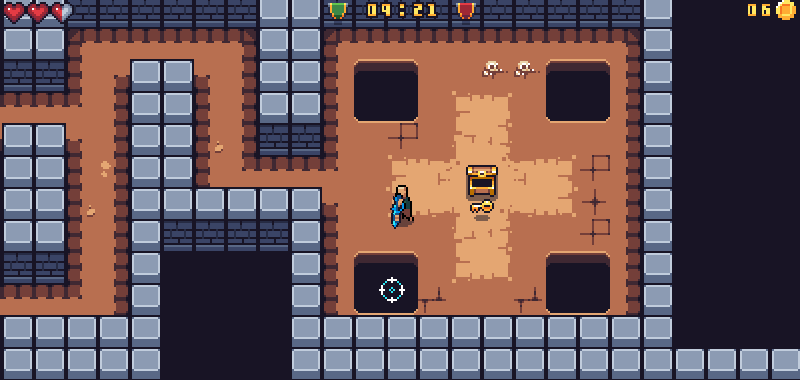key: (467, 199, 496, 216)
treasury_open: (464, 164, 499, 199)
